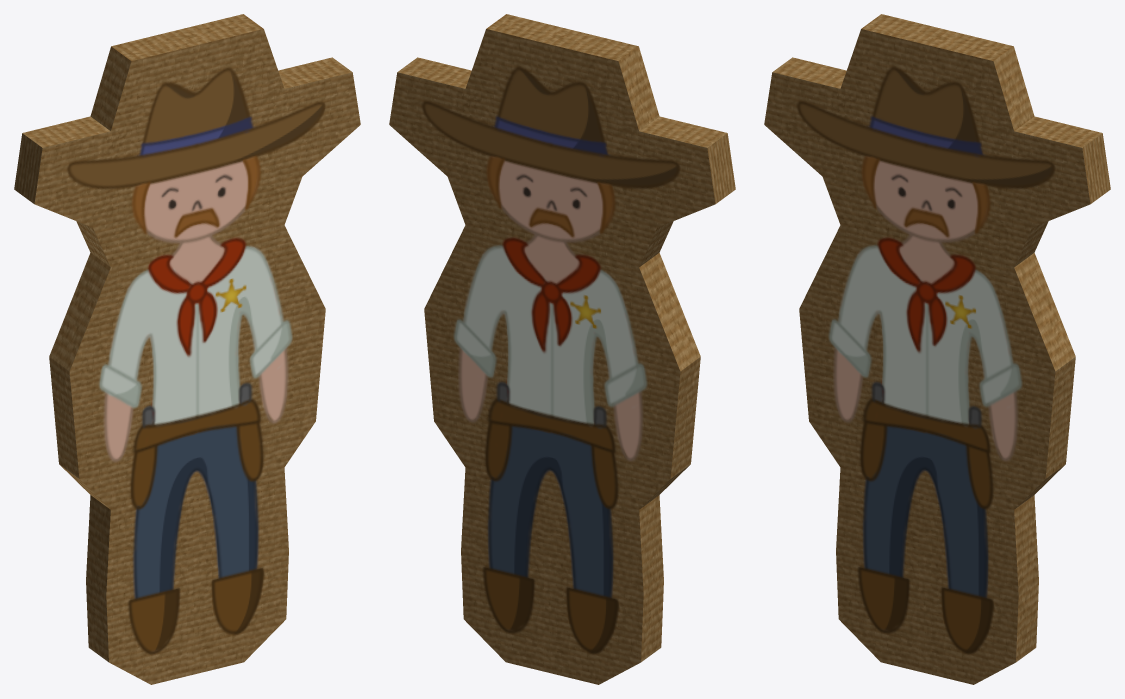
The model's file is Char_Sheriff.fbx.
3 views of the same model, side by side, from view 1: azimuth 30°, elevation 25°; view 2: azimuth 150°, elevation 25°; view 3: azimuth 330°, elevation 25° (orthographic).
Parts seen in each view (by area): view 1: Sheriff; view 2: Sheriff; view 3: Sheriff.
Part boxes in pixels (left/top/right/bottom): Sheriff: left=14, top=14, right=360, bottom=684; Sheriff: left=389, top=14, right=735, bottom=684; Sheriff: left=764, top=14, right=1110, bottom=684.
Bounding box in the file's own units: 0.7395 × 1.36 × 0.0799.
